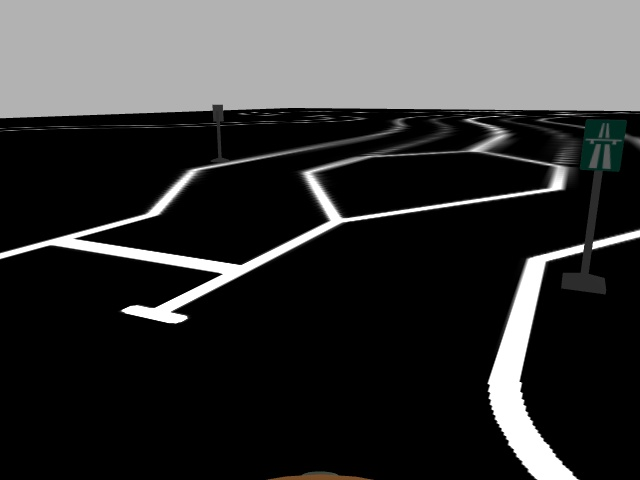enter_highway: (577, 118, 629, 172)
